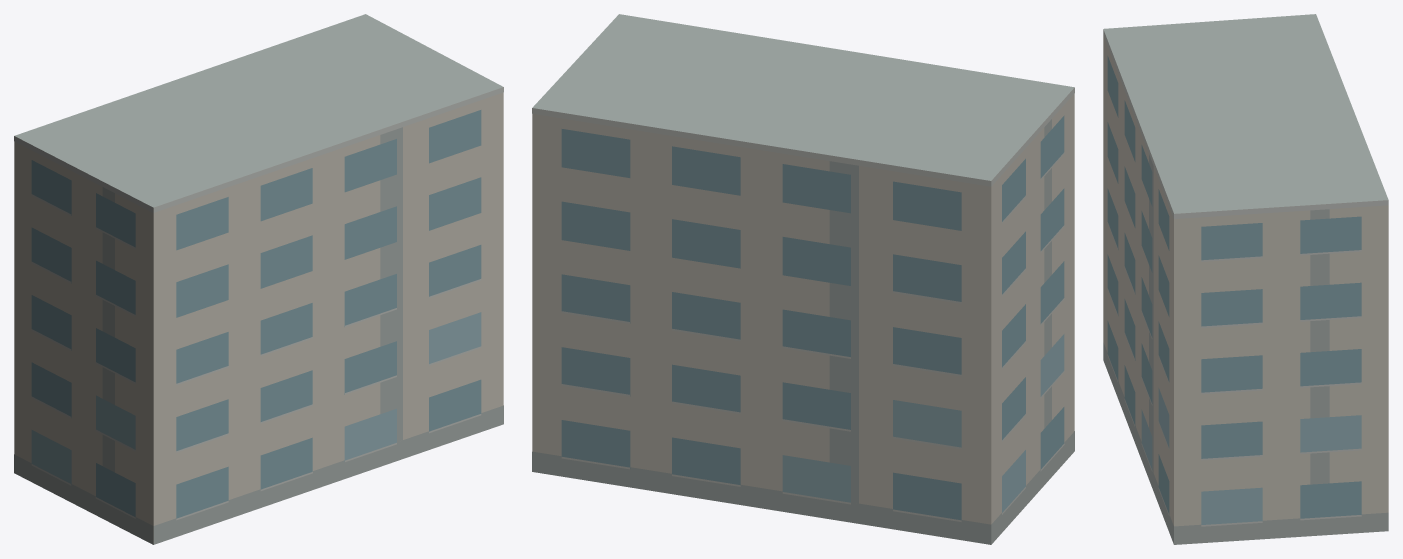
The model's file is survey-upis-32906707.glb.
3 views of the same model, side by side, from view 1: azimuth 30°, elevation 25°; view 2: azimuth 150°, elevation 25°; view 3: azimuth 270°, elevation 25° (orthographic). The views are drawn at different scales.
Parts seen in each view (by area): view 1: survey-upis-32906707.tmp; view 2: survey-upis-32906707.tmp; view 3: survey-upis-32906707.tmp.
Boxes of the visible parts, x1,y1,x2,y2 form: survey-upis-32906707.tmp: (14,14,503,544); survey-upis-32906707.tmp: (532,14,1074,544); survey-upis-32906707.tmp: (1103,14,1388,544).
Bounding box in the file's own units: 19.76 × 15.25 × 11.93.
